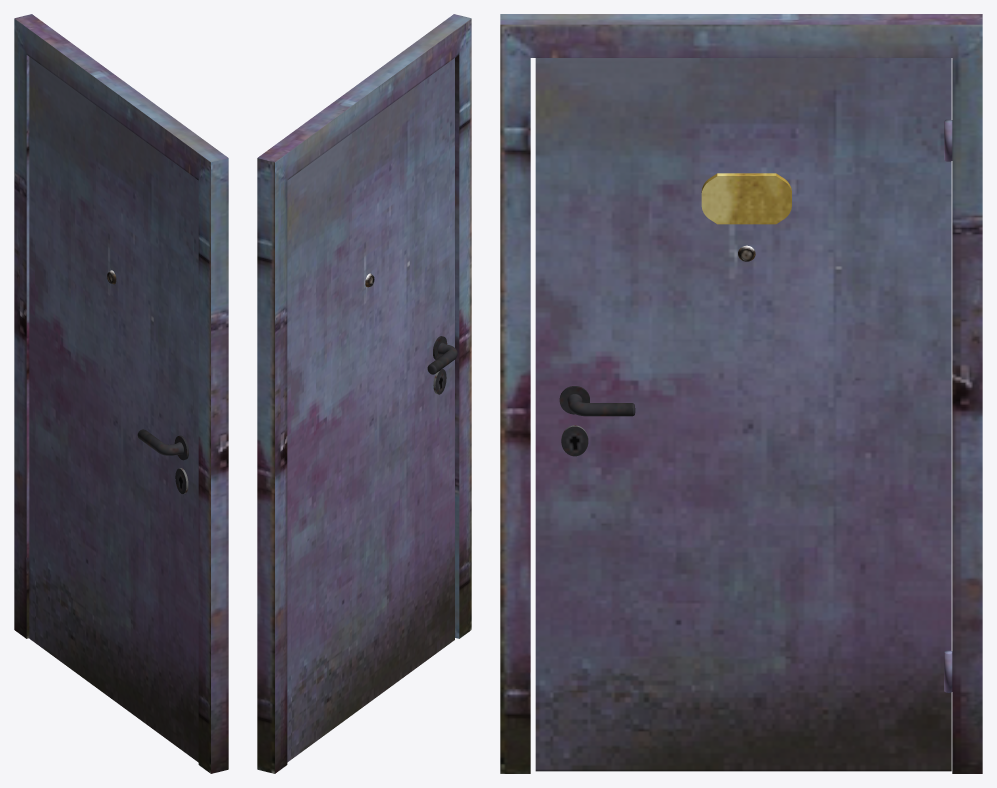
Rendered from door_maze_a.fbx.
3 views of the same model, side by side, from view 1: azimuth 30°, elevation 25°; view 2: azimuth 150°, elevation 25°; view 3: azimuth 270°, elevation 25° (orthographic). The views are drawn at different scales.
Parts seen in each view (by area): view 1: DoorConnectorDown.009, Doorway.001, DoorHandle.004; view 2: DoorConnectorDown.009, Doorway.001, DoorHandle.004; view 3: DoorConnectorDown.009, Doorway.001, DoorHandle.004.
Part boxes in pixels (x1,y1,x2,y2): DoorConnectorDown.009: [29, 57, 198, 762]; Doorway.001: [14, 14, 228, 773]; DoorHandle.004: [137, 429, 188, 460]; DoorConnectorDown.009: [287, 58, 454, 762]; Doorway.001: [257, 14, 471, 773]; DoorHandle.004: [427, 336, 457, 374]; DoorConnectorDown.009: [535, 58, 952, 771]; Doorway.001: [500, 14, 982, 773]; DoorHandle.004: [559, 386, 635, 416].
Size of the model in its own units: 24.33 by 263 by 154.
